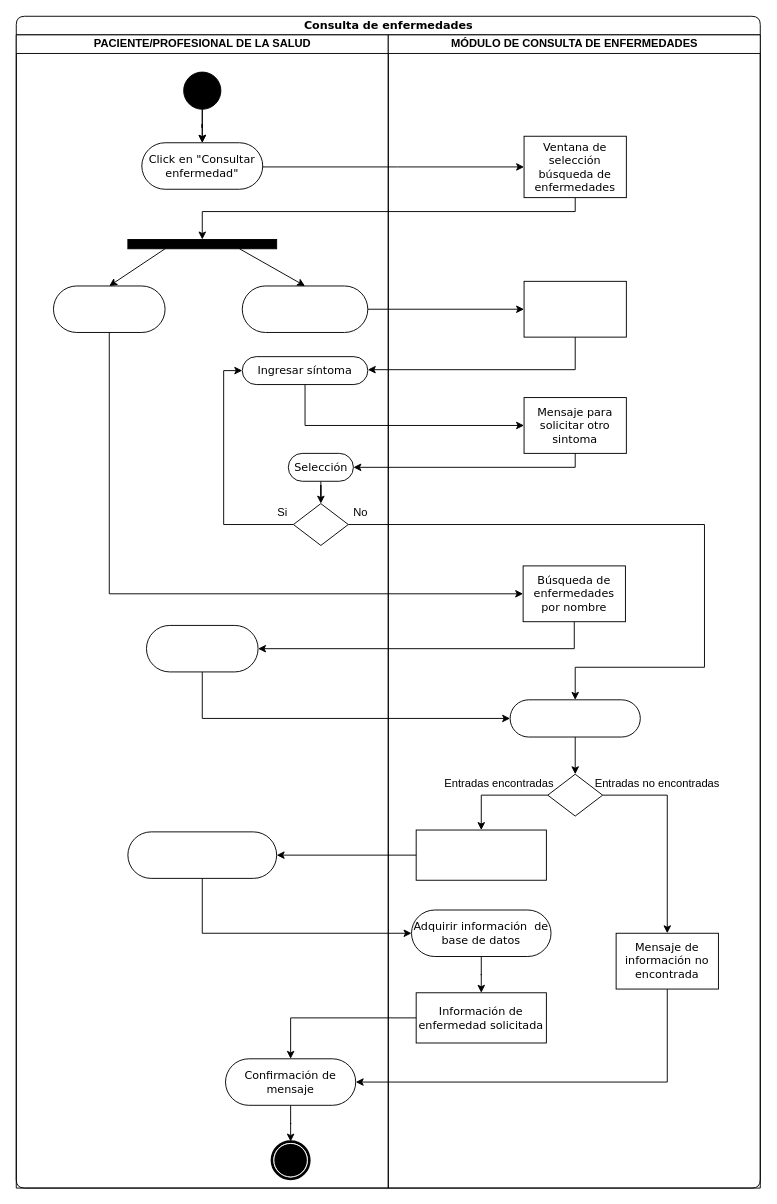
Some shapes in this 777 by 1204 pixel diagram are drawn without their labels. Each missing label, with the box of its shape:
Buscar coincidencias en la base de datos: (509, 699, 640, 737)
Búsqueda de enfermedades por síntoma: (523, 280, 626, 337)
Click en "Búsqueda por nombre": (53, 285, 165, 332)
Click en "Búsqueda por síntomas": (241, 285, 368, 332)
Ingresar parámetros de búsqueda: (146, 624, 258, 672)
Lista de enfermedades encontrada: (415, 829, 546, 880)
Seleccionar enfermedad de la lista: (127, 831, 277, 878)
